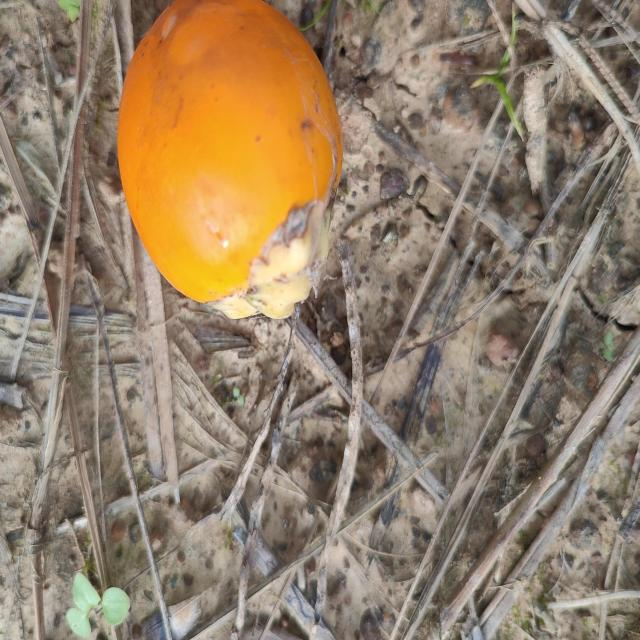good: (116, 0, 346, 317)
